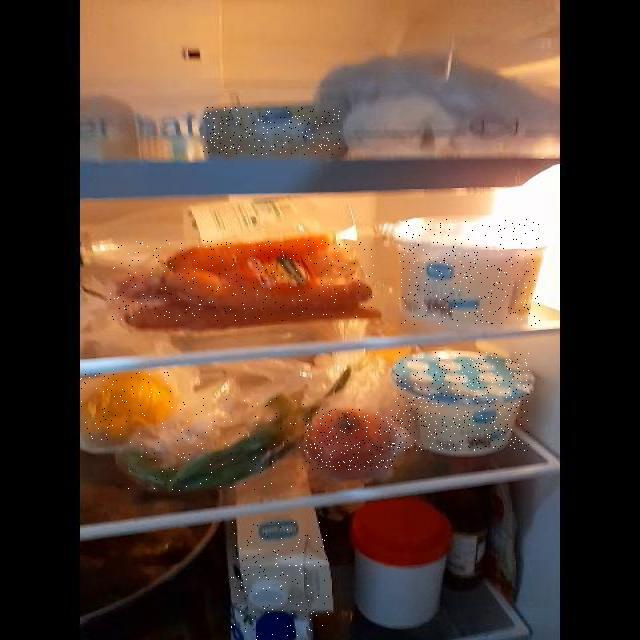butter: (203, 107, 340, 155)
carrot: (110, 240, 374, 321)
green chilies: (127, 398, 305, 491)
lemon: (79, 372, 180, 441)
milk: (230, 522, 330, 640)
tomato: (305, 409, 396, 470)
yoghurt: (399, 219, 540, 326), (395, 352, 529, 451)
